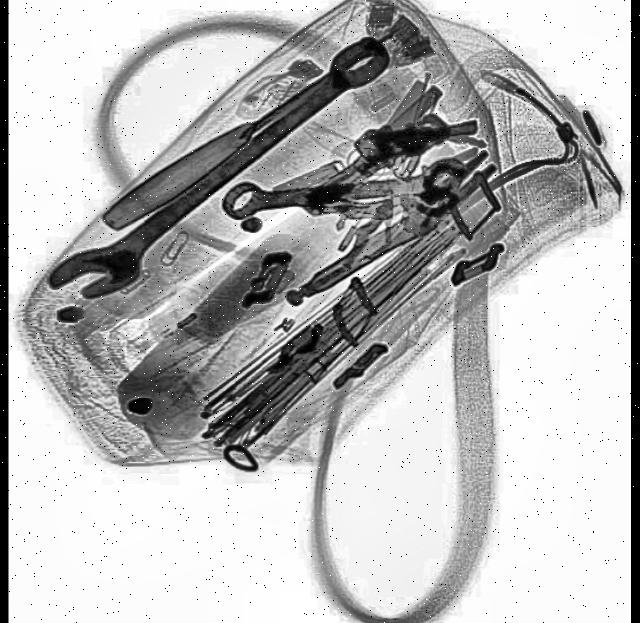Gun: (295, 111, 482, 214)
Knife: (97, 8, 402, 238)
Wrench: (42, 18, 398, 327), (220, 152, 467, 223)
